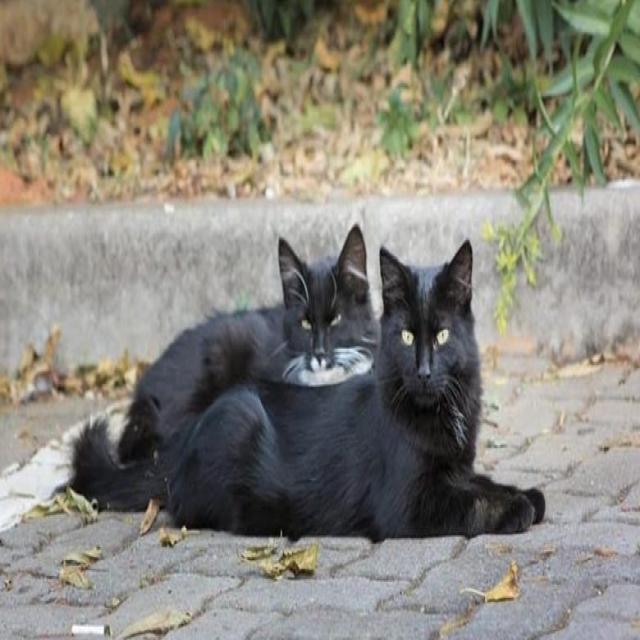cat: (169, 242, 545, 540), (74, 226, 379, 506)
